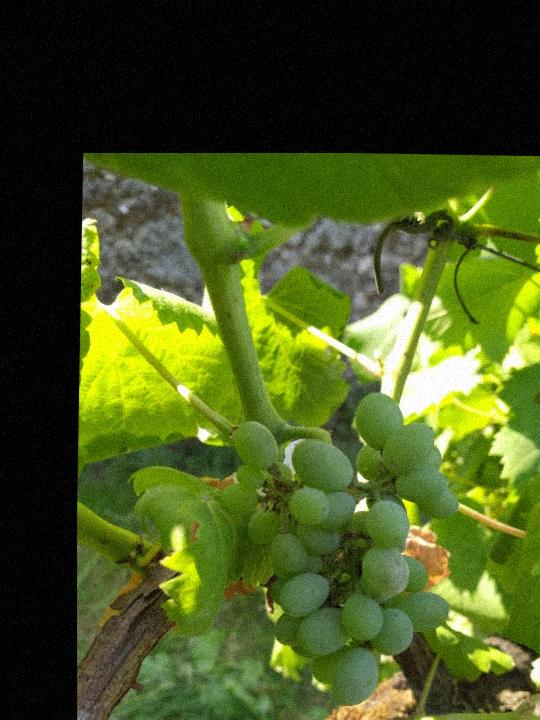grape: (211, 389, 456, 712)
